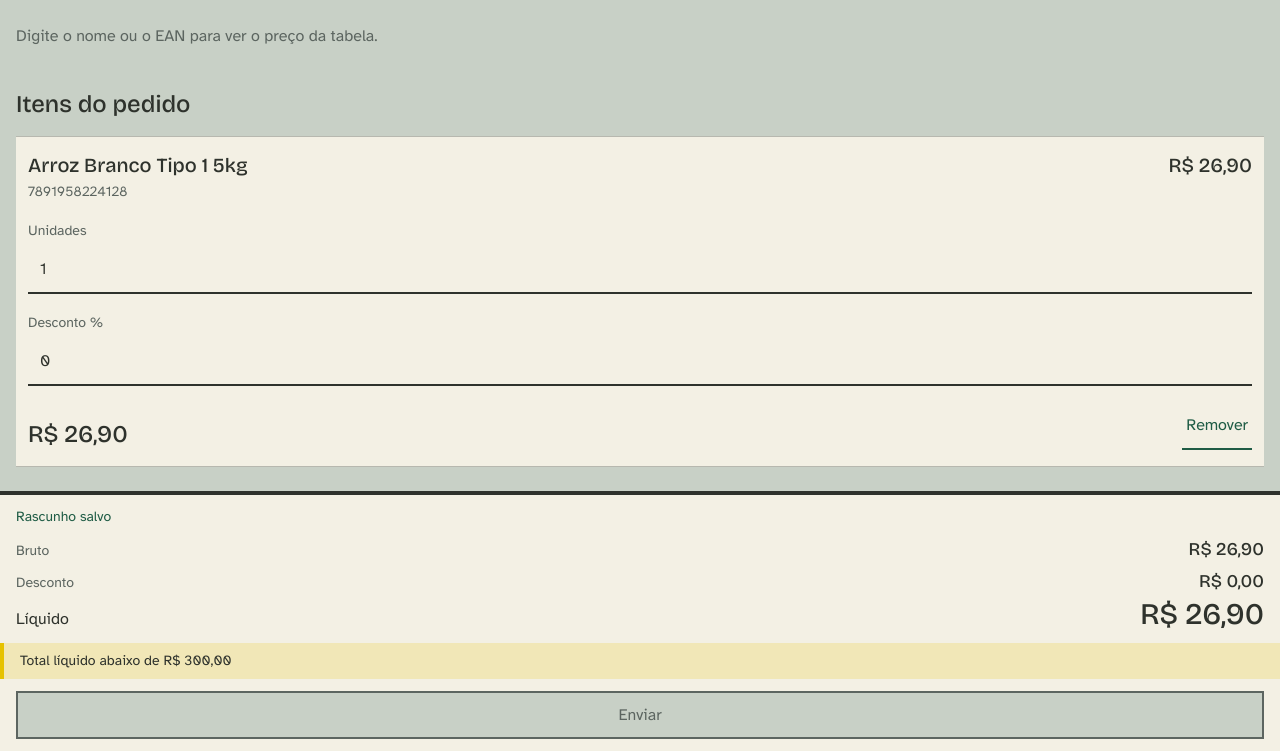
it: OrderPage — carrinho › remover o último item esvazia o carrinho e limpa o rascunho
(page scrolled)
Expected: the text with test id "draft-saved" reads "Rascunho salvo", [16,508,111,525]
Click the button with test id "remove-line" at (1217, 426), box [1182,402,1252,450]
(page scrolled)
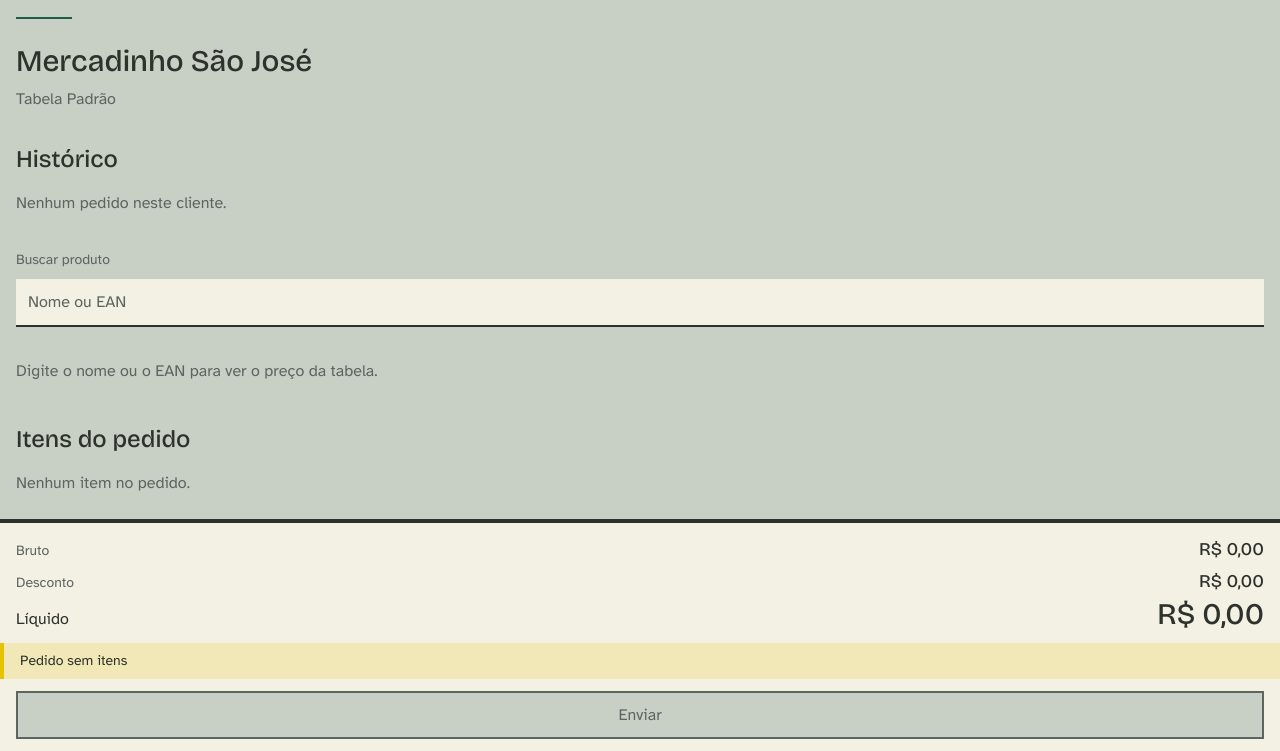
Result: the text with test id "cart-empty" reads "Nenhum item no pedido." at [16,473,190,493]
